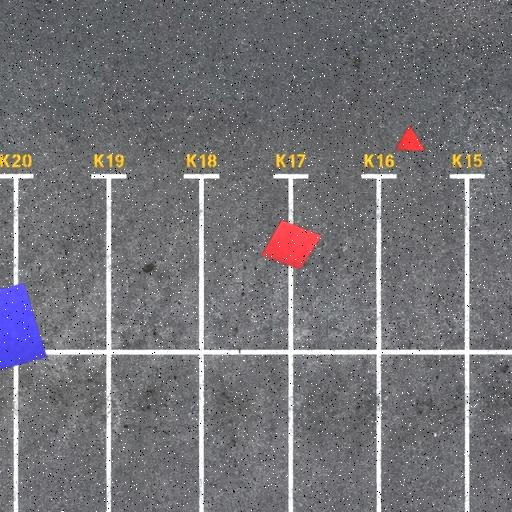BLUE_SQUARE: (0, 282, 47, 381)
RED_SQUARE: (261, 220, 323, 270)
